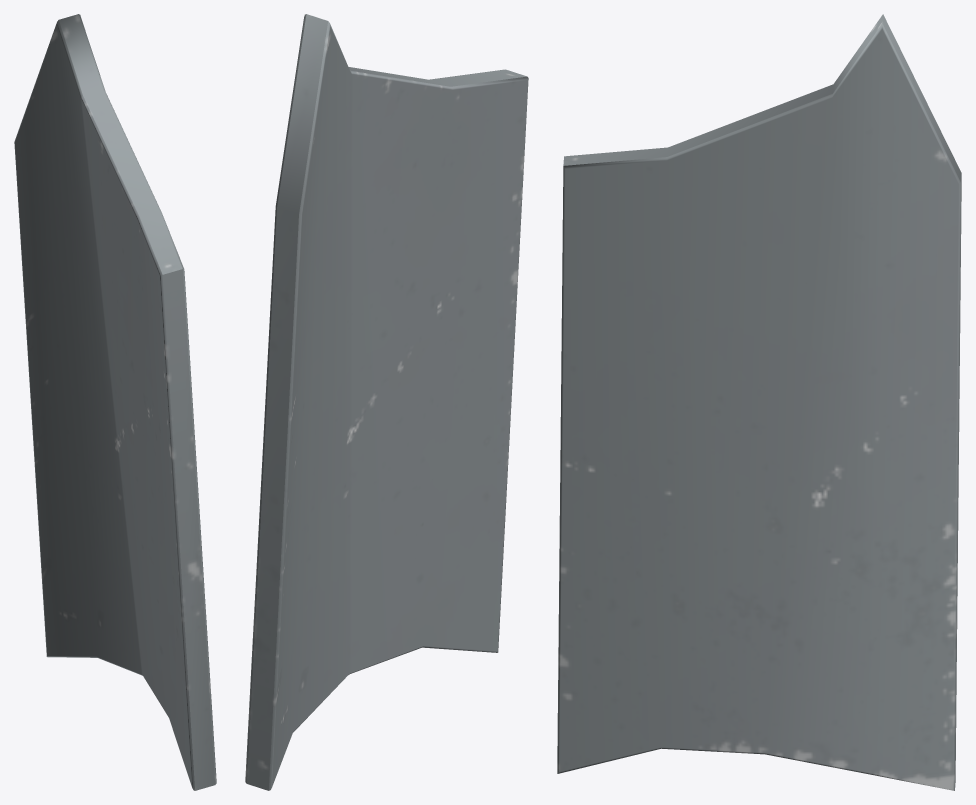
File: verre_brisee_morceau_5.fbx
The picture shows the model from 3 angles, left to right: view 1: azimuth 30°, elevation 25°; view 2: azimuth 150°, elevation 25°; view 3: azimuth 270°, elevation 25°; orthographic projection. The views are drawn at different scales.
Visible parts, largest first — view 1: verre_brisee_morceau__5; view 2: verre_brisee_morceau__5; view 3: verre_brisee_morceau__5.
Part boxes in pixels (box(x1,y1,x2,y2)): verre_brisee_morceau__5: box(14, 14, 216, 790); verre_brisee_morceau__5: box(245, 14, 528, 790); verre_brisee_morceau__5: box(557, 14, 961, 790).
Size of the model in its own units: 0.0114 by 0.0755 by 0.0366.
